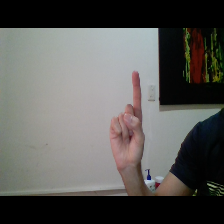2T: (103, 65, 158, 172)
